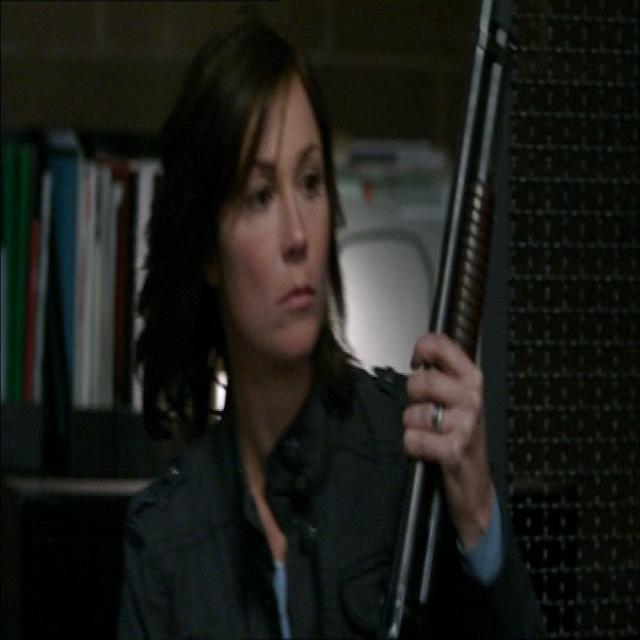rifle: (377, 1, 523, 640)
